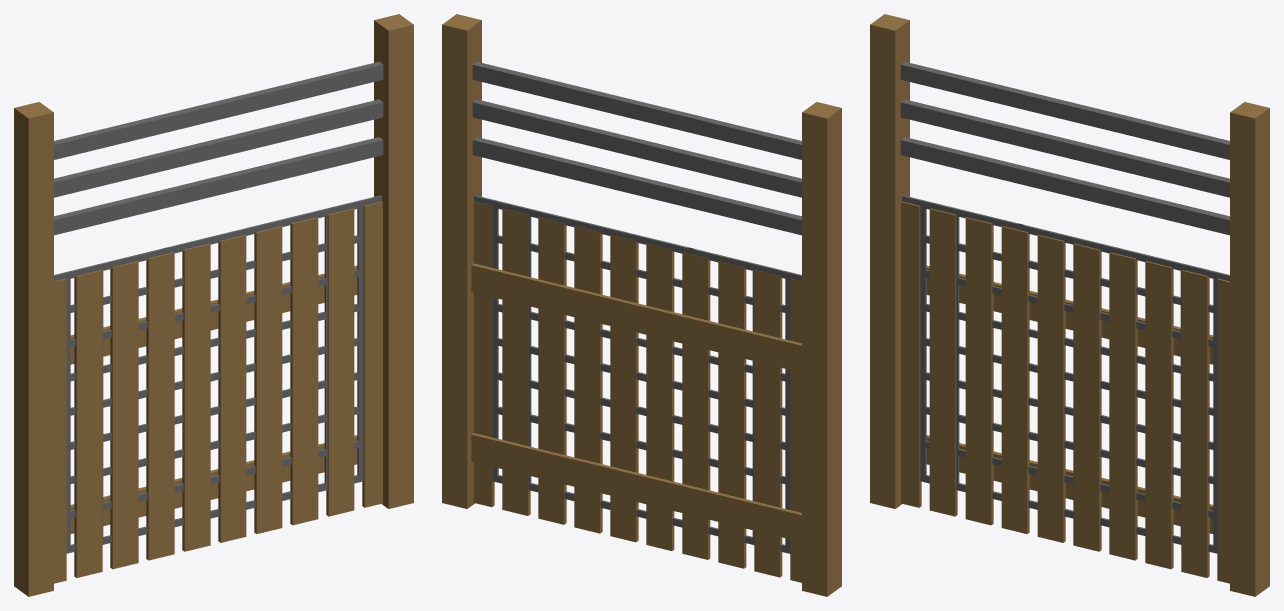
File: fences_upd.fbx
3 renders of one model, left to right at view 1: azimuth 30°, elevation 25°; view 2: azimuth 150°, elevation 25°; view 3: azimuth 330°, elevation 25°, orthographic.
Parts seen in each view (by area): view 1: wood_fence, metal_fence; view 2: wood_fence, metal_fence; view 3: wood_fence, metal_fence.
Boxes of the visible parts, left/top/right/bottom form: wood_fence: left=54, top=201, right=382, bottom=583; metal_fence: left=14, top=14, right=413, bottom=596; wood_fence: left=471, top=201, right=801, bottom=582; metal_fence: left=442, top=14, right=841, bottom=596; wood_fence: left=901, top=201, right=1229, bottom=583; metal_fence: left=870, top=14, right=1269, bottom=596.
Size of the model in its own units: 214 by 254 by 14.
